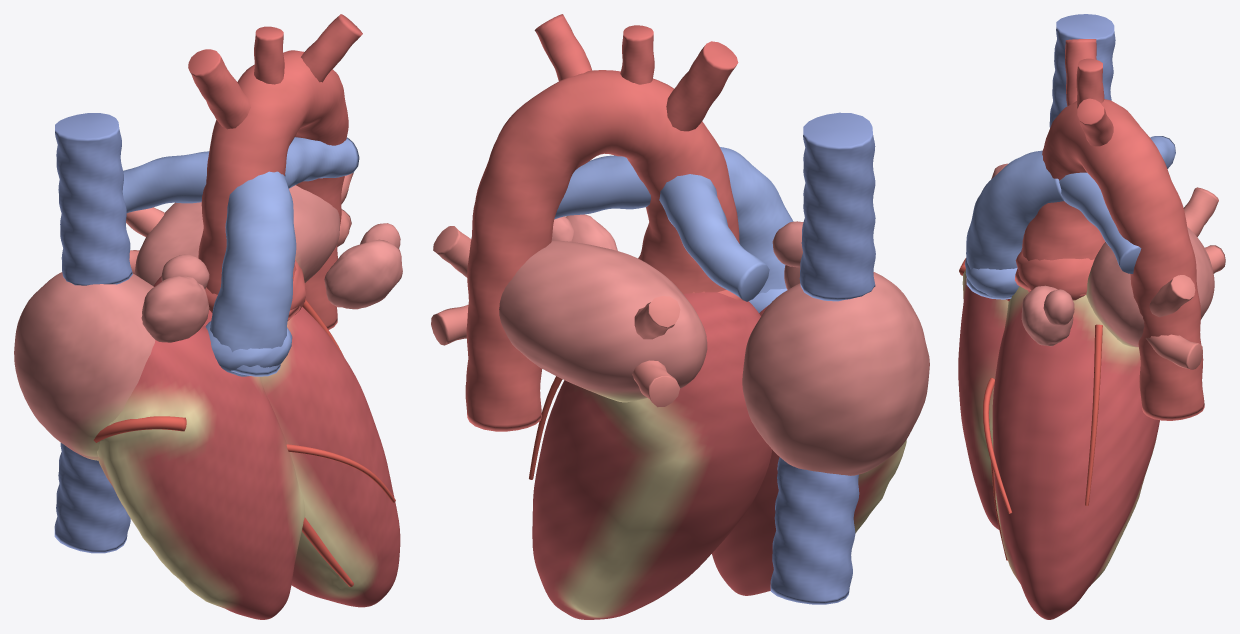
Rendered from human-heart.glb.
The picture shows the model from 3 angles, left to right: view 1: azimuth 30°, elevation 25°; view 2: azimuth 150°, elevation 25°; view 3: azimuth 270°, elevation 25°; orthographic projection. The views are drawn at different scales.
Visible parts, largest first — view 1: part_right-ventricle, part_left-ventricle, part_right-atrium, part_aorta, part_pulmonary-artery, part_left-atrium, part_superior-vena-cava, part_inferior-vena-cava, part_coronary-arteries, part_pulmonary-veins; view 2: part_left-ventricle, part_aorta, part_right-atrium, part_left-atrium, part_pulmonary-artery, part_superior-vena-cava, part_inferior-vena-cava, part_right-ventricle, part_pulmonary-veins, part_coronary-arteries; view 3: part_left-ventricle, part_aorta, part_pulmonary-artery, part_left-atrium, part_right-ventricle, part_pulmonary-veins, part_superior-vena-cava, part_coronary-arteries.
Part boxes in pixels (x1=…): part_right-ventricle: x1=97, y1=325, x2=305, y2=619; part_left-ventricle: x1=153, y1=276, x2=400, y2=607; part_right-atrium: x1=14, y1=254, x2=209, y2=460; part_aorta: x1=188, y1=14, x2=362, y2=329; part_pulmonary-artery: x1=122, y1=137, x2=359, y2=376; part_left-atrium: x1=135, y1=185, x2=402, y2=309; part_superior-vena-cava: x1=55, y1=113, x2=132, y2=285; part_inferior-vena-cava: x1=54, y1=443, x2=130, y2=553; part_coronary-arteries: x1=93, y1=299, x2=395, y2=586; part_pulmonary-veins: x1=126, y1=172, x2=353, y2=274; part_left-ventricle: x1=532, y1=292, x2=772, y2=619; part_aorta: x1=465, y1=14, x2=743, y2=431; part_right-atrium: x1=742, y1=221, x2=929, y2=475; part_left-atrium: x1=499, y1=214, x2=707, y2=402; part_pulmonary-artery: x1=554, y1=147, x2=793, y2=312; part_superior-vena-cava: x1=799, y1=112, x2=875, y2=301; part_inferior-vena-cava: x1=770, y1=457, x2=859, y2=604; part_right-ventricle: x1=712, y1=305, x2=906, y2=595; part_pulmonary-veins: x1=431, y1=226, x2=680, y2=407; part_coronary-arteries: x1=529, y1=376, x2=562, y2=479; part_left-ventricle: x1=992, y1=286, x2=1159, y2=619; part_aorta: x1=1015, y1=39, x2=1204, y2=420; part_pulmonary-artery: x1=965, y1=136, x2=1175, y2=299; part_left-atrium: x1=1021, y1=227, x2=1214, y2=347; part_right-ventricle: x1=958, y1=269, x2=1008, y2=529; part_pulmonary-veins: x1=1145, y1=187, x2=1225, y2=369; part_superior-vena-cava: x1=1049, y1=14, x2=1115, y2=127; part_coronary-arteries: x1=959, y1=258, x2=1102, y2=560.
Bounding box in the file's own units: 1.24 × 1.77 × 0.8267.
